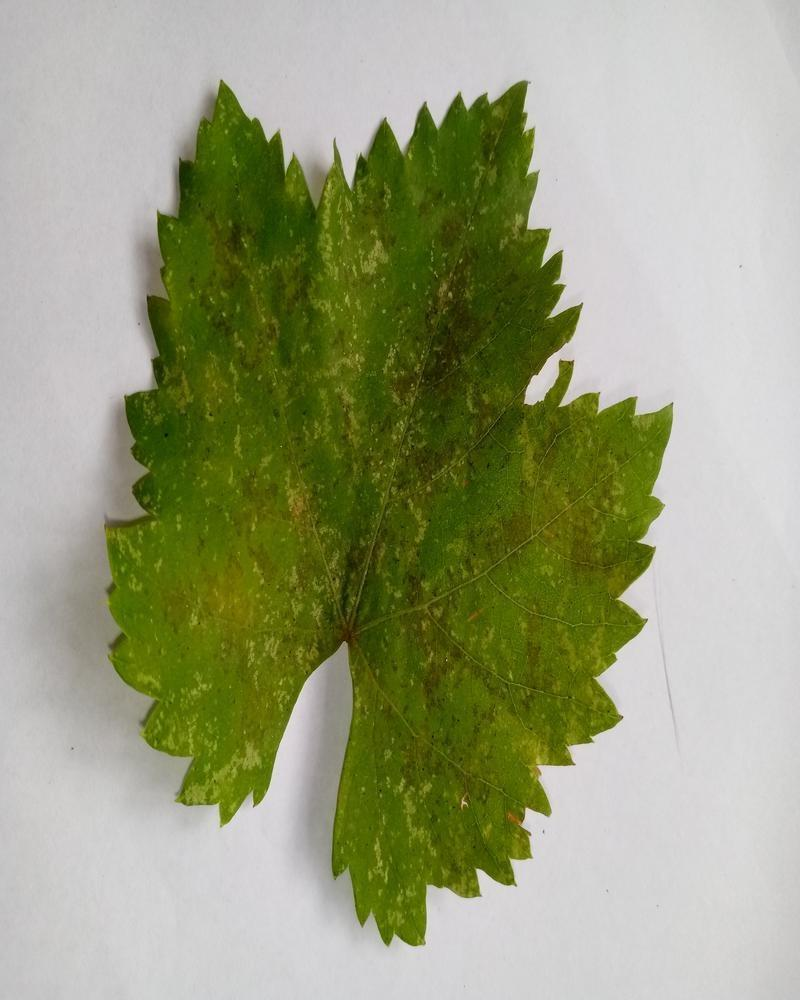Powdery-Mildew: (357, 546, 570, 774), (376, 191, 519, 465), (179, 164, 324, 369), (504, 412, 652, 586), (237, 477, 342, 686), (111, 525, 210, 633), (162, 693, 262, 786), (341, 189, 404, 252), (299, 304, 362, 367)
